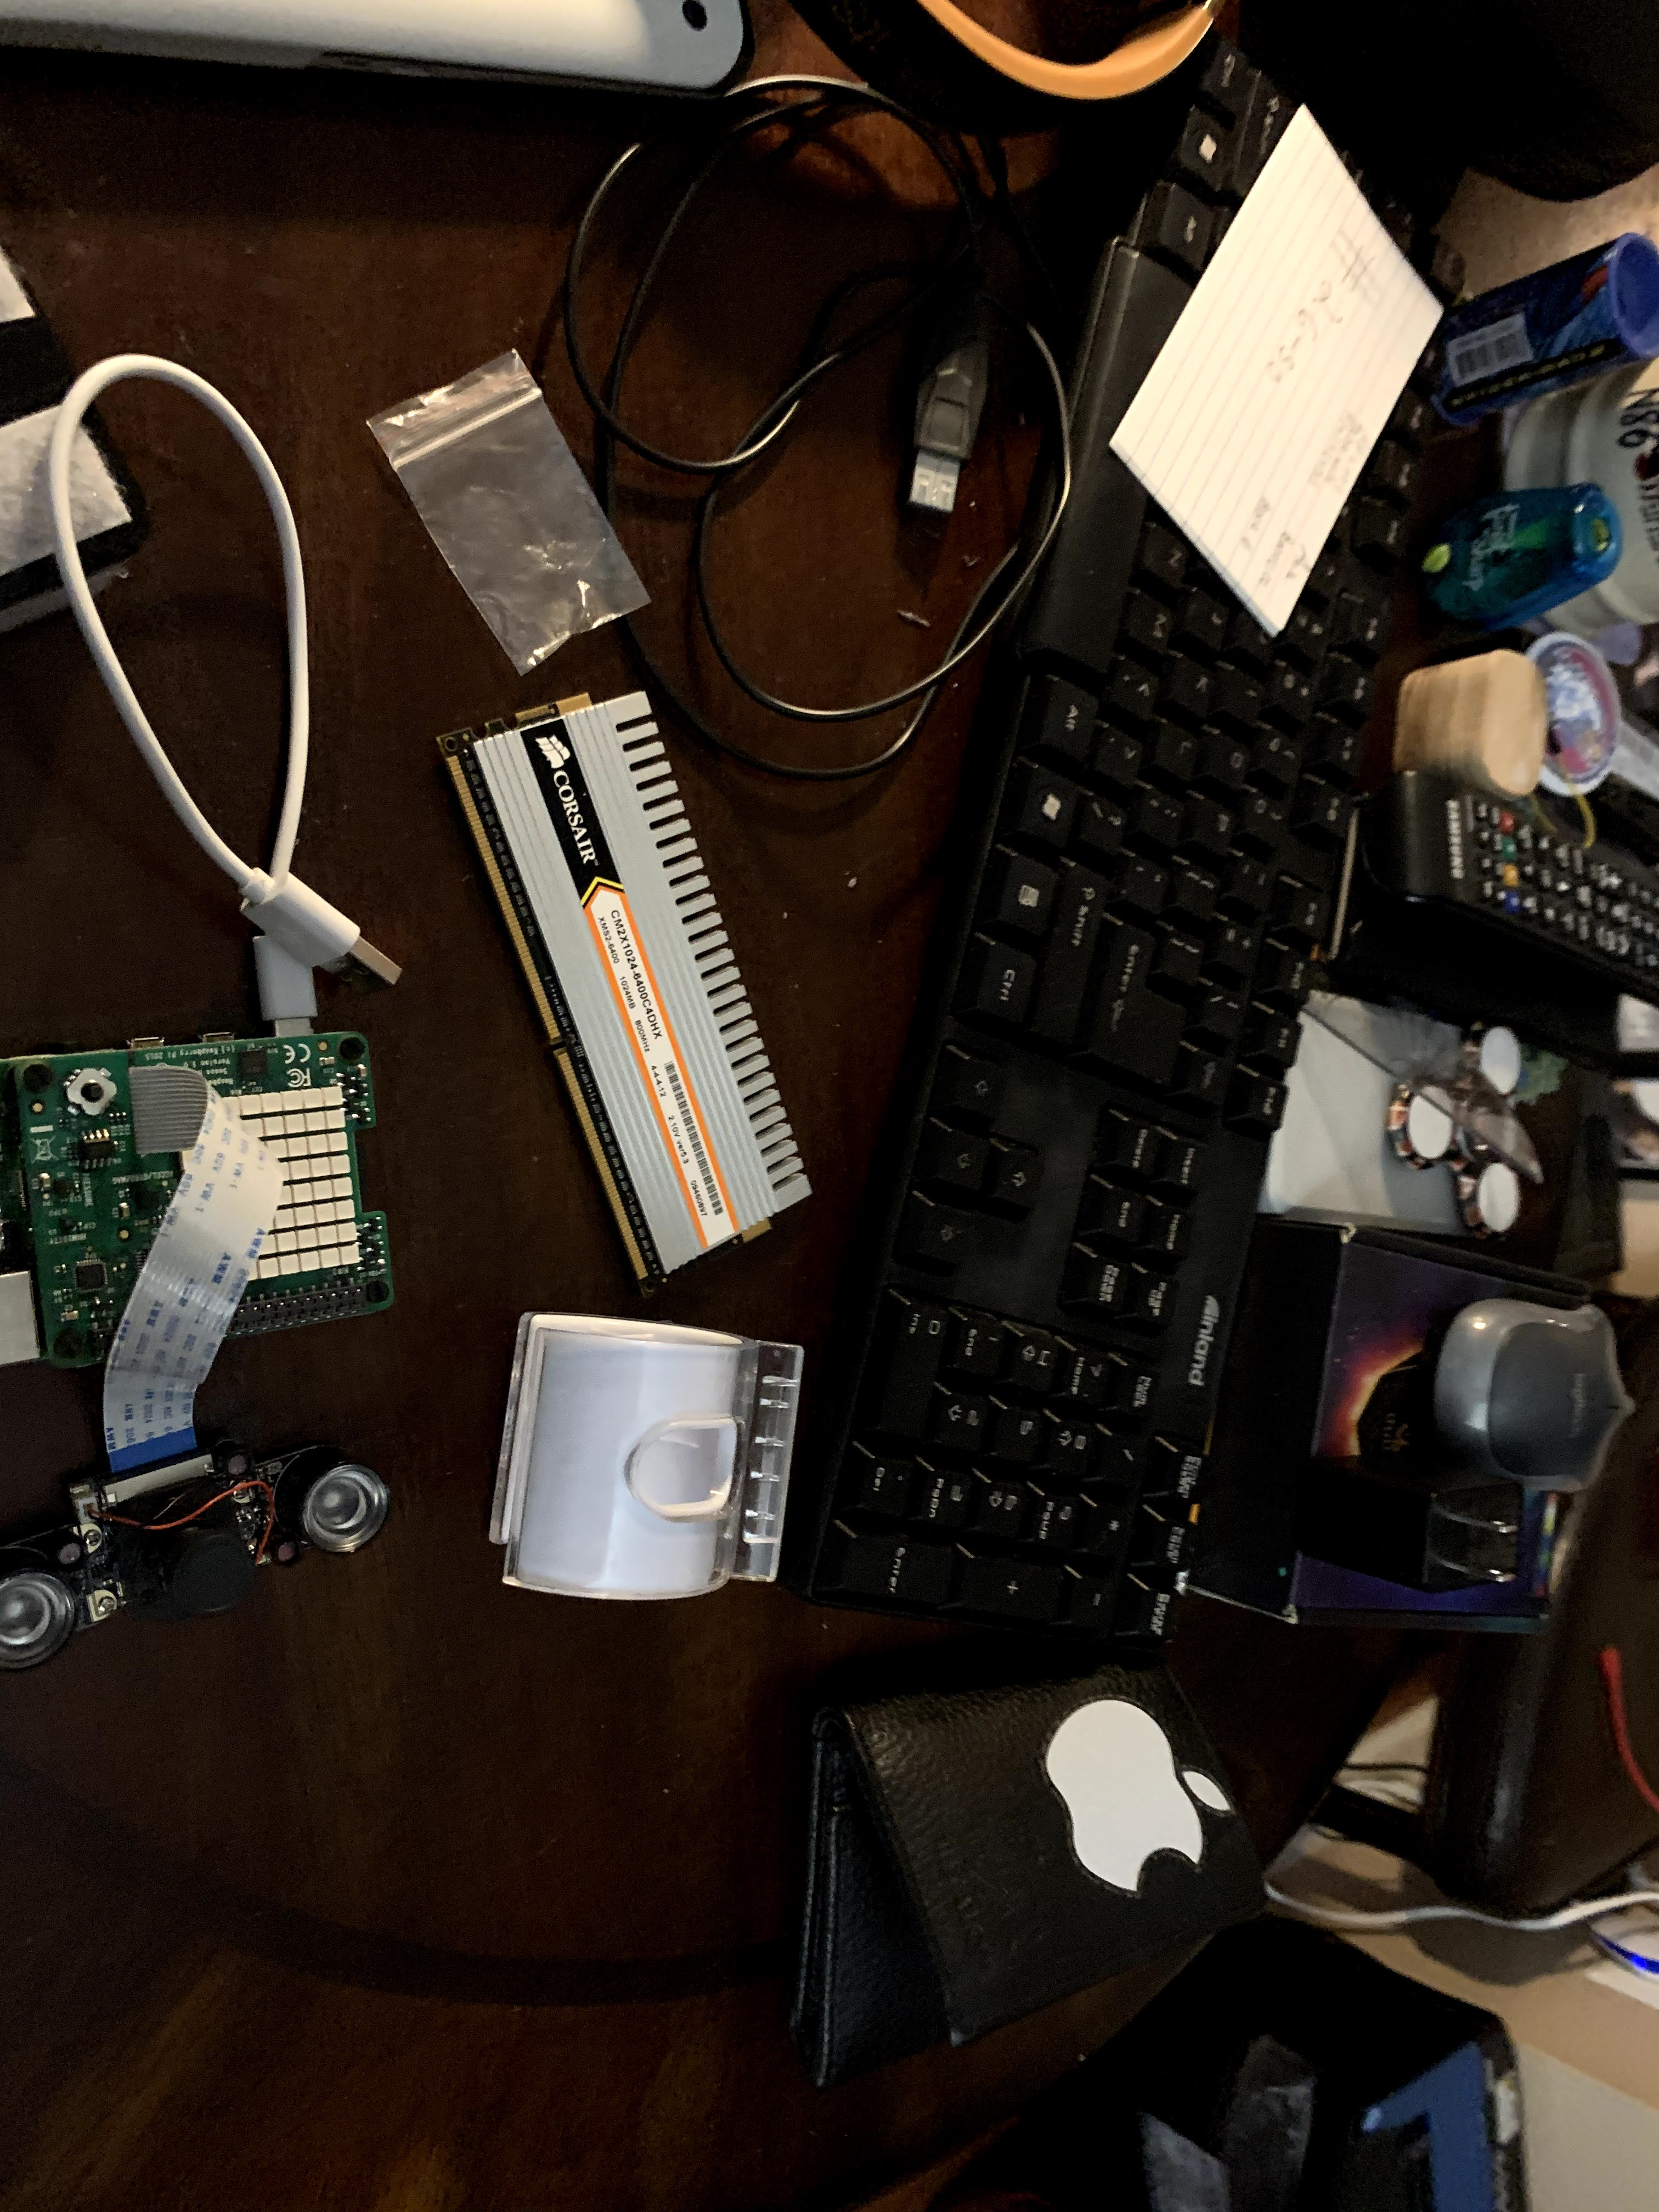Space-debris-medium: (403, 683, 868, 1294)
